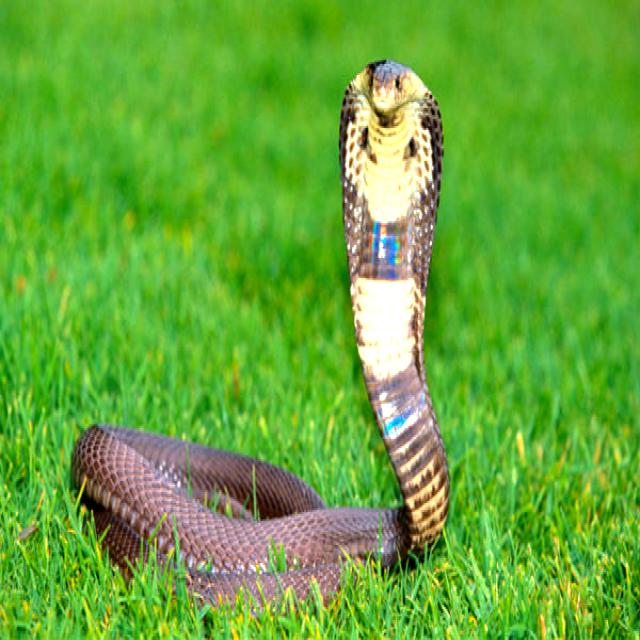Naja kaouthia: (72, 61, 449, 605)
snake: (72, 61, 449, 605)
